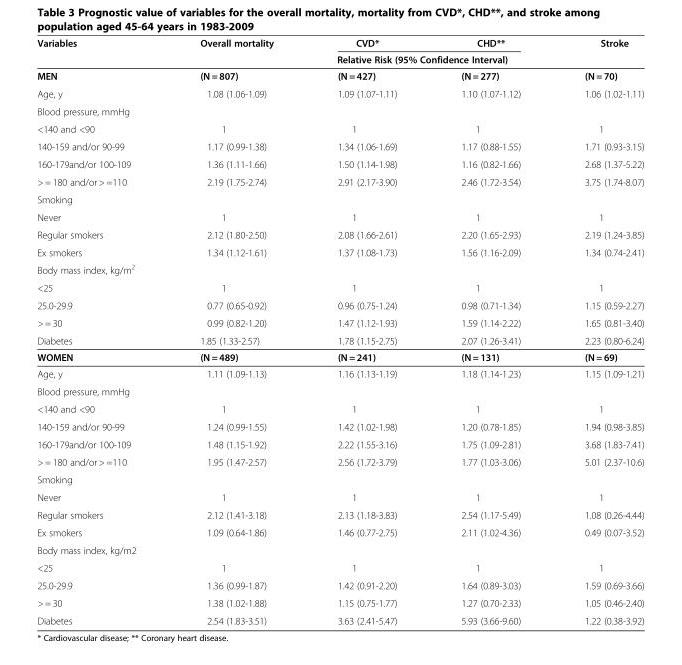table: (36, 36, 643, 626)
table column: (167, 36, 304, 626), (36, 36, 167, 626), (304, 36, 428, 626), (428, 36, 552, 626), (552, 36, 643, 626)
table column header: (36, 36, 643, 67)
table projected row header: (36, 190, 643, 208), (36, 260, 643, 278), (36, 470, 643, 488), (36, 102, 643, 119), (36, 382, 643, 399), (36, 541, 643, 558)
table row: (36, 84, 643, 102), (36, 119, 643, 137), (36, 137, 643, 155), (36, 172, 643, 190), (36, 190, 643, 208), (36, 225, 643, 243), (36, 260, 643, 278), (36, 278, 643, 296), (36, 313, 643, 331), (36, 399, 643, 417), (36, 417, 643, 435), (36, 452, 643, 470), (36, 470, 643, 488), (36, 505, 643, 523), (36, 523, 643, 541), (36, 558, 643, 576), (36, 593, 643, 611), (36, 50, 643, 67), (36, 67, 643, 84), (36, 102, 643, 119), (36, 155, 643, 172), (36, 208, 643, 225), (36, 243, 643, 260), (36, 296, 643, 313), (36, 331, 643, 348), (36, 348, 643, 365), (36, 365, 643, 382), (36, 382, 643, 399), (36, 435, 643, 452), (36, 488, 643, 505), (36, 541, 643, 558), (36, 576, 643, 593), (36, 611, 643, 626), (36, 36, 643, 50)
table spanning cell: (167, 50, 643, 67), (36, 36, 167, 67)
